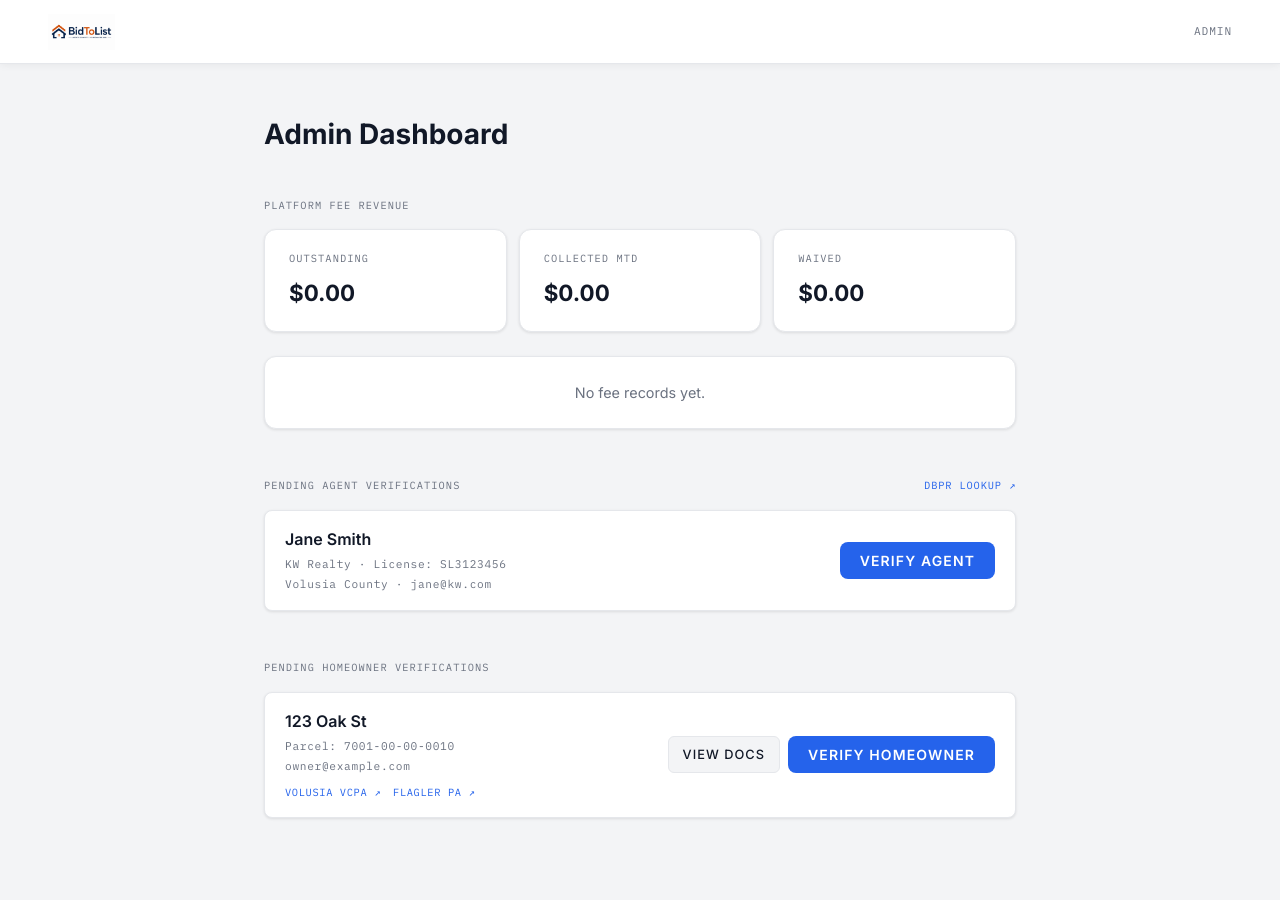
AdminPage › removes agent from list after verification
This screenshot has width=1280, height=900.
Check: the text "Jane Smith" is shown, box [285,529,371,549]
Click the button "Verify Agent". click: (917, 560)
box: [840,542,995,579]
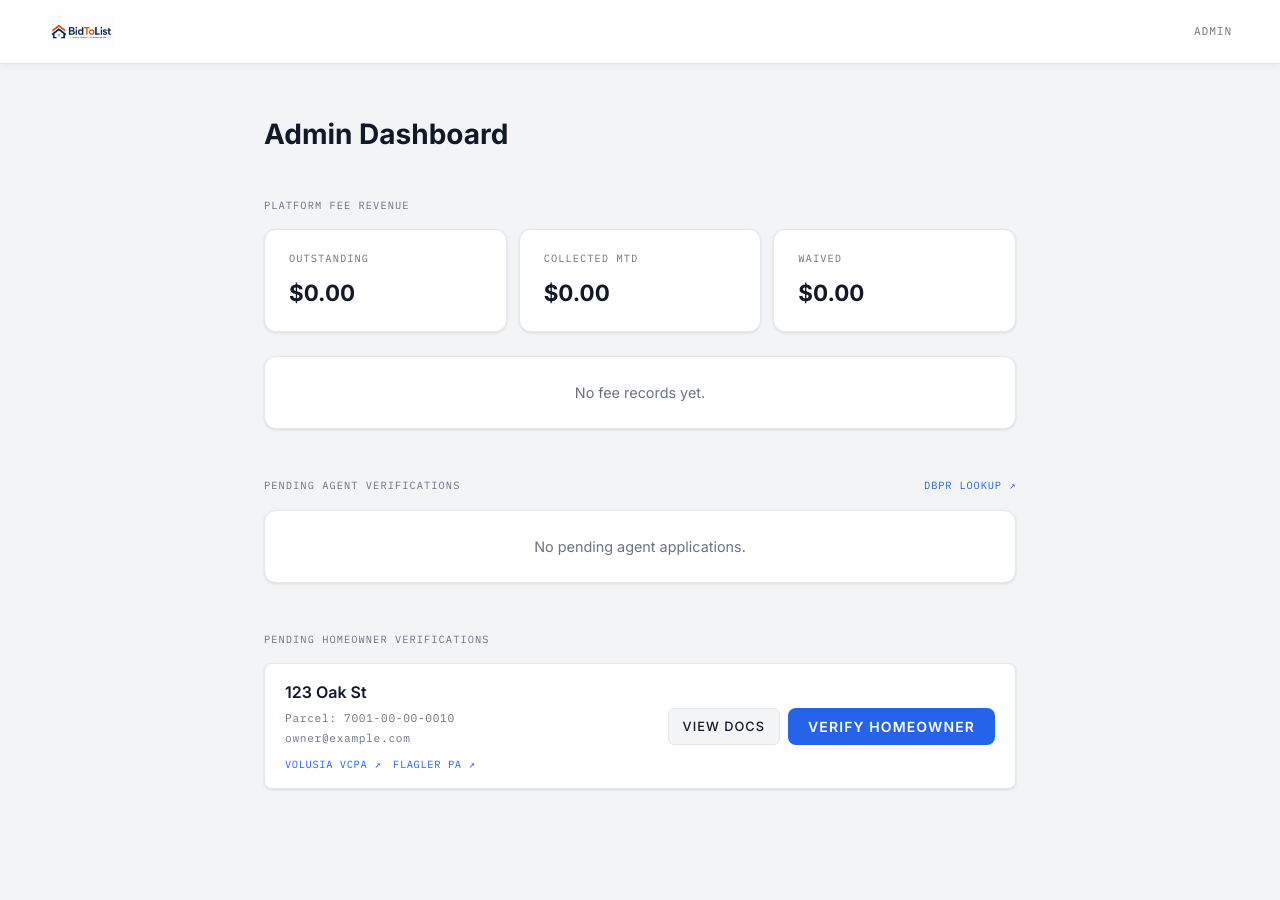
Check: the text "Jane Smith" is gone
